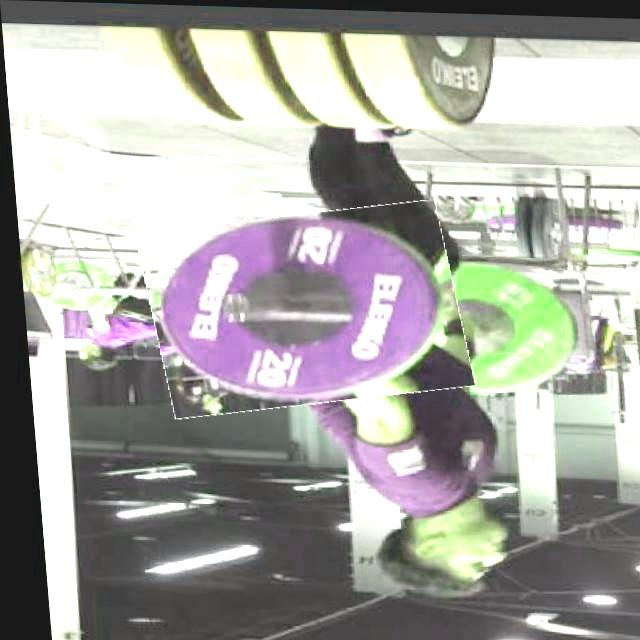barbell: (135, 202, 465, 415)
